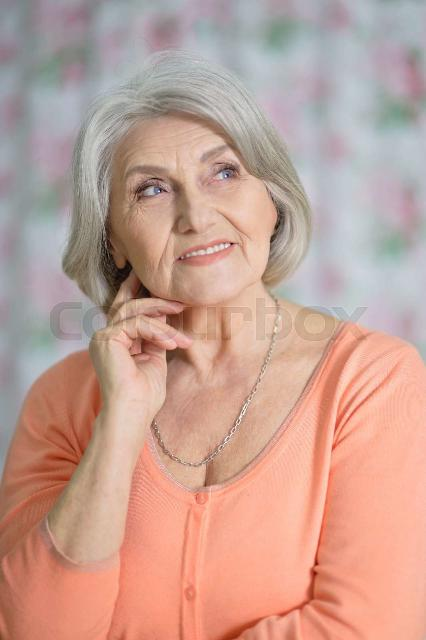crows_feet: (124, 190, 142, 222)
forehead: (158, 124, 222, 148)
frown_line: (170, 148, 188, 174)
gummy_smile: (156, 220, 182, 264), (218, 208, 248, 236)
sad_smile: (158, 256, 186, 296), (234, 236, 256, 268)
